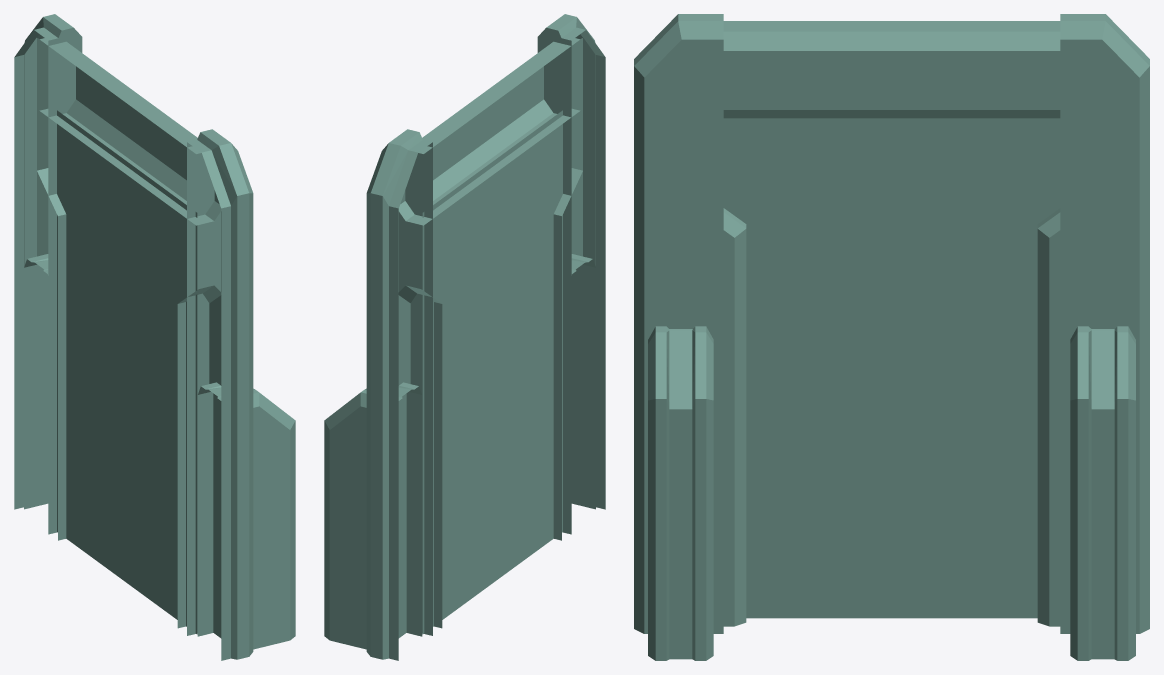
Rendered from ATLAS_LV_DOOR.fbx.
The picture shows the model from 3 angles, left to right: view 1: azimuth 30°, elevation 25°; view 2: azimuth 150°, elevation 25°; view 3: azimuth 270°, elevation 25°; orthographic projection. The views are drawn at different scales.
Visible parts, largest first — view 1: LV_DOOR; view 2: LV_DOOR; view 3: LV_DOOR.
Boxes of the visible parts, x1,y1,x2,y2 form: LV_DOOR: (14,14,295,660); LV_DOOR: (324,14,605,660); LV_DOOR: (634,14,1149,660).
Bounding box in the file's own units: 37.25 × 222 × 170.
